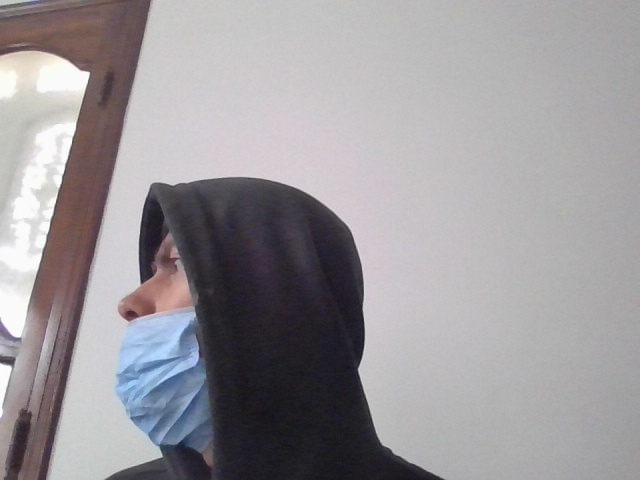mask_weared_incorrect: (112, 193, 256, 456)
